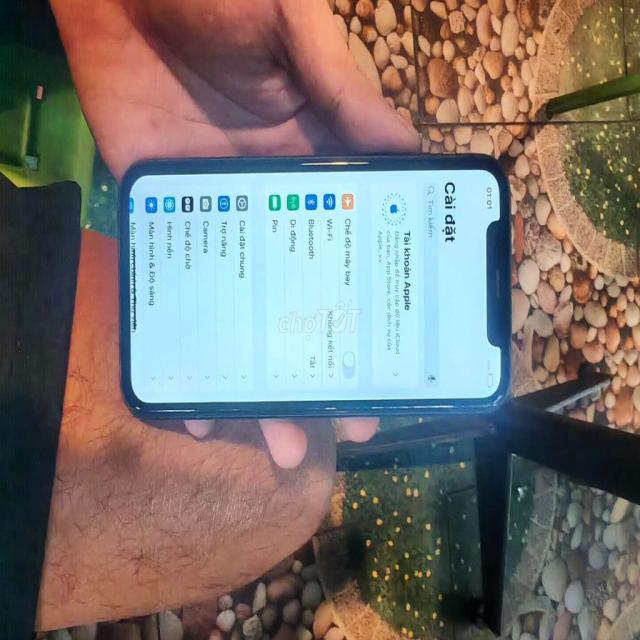gen_11: (119, 153, 511, 419)
scratch: (489, 388, 505, 409)
